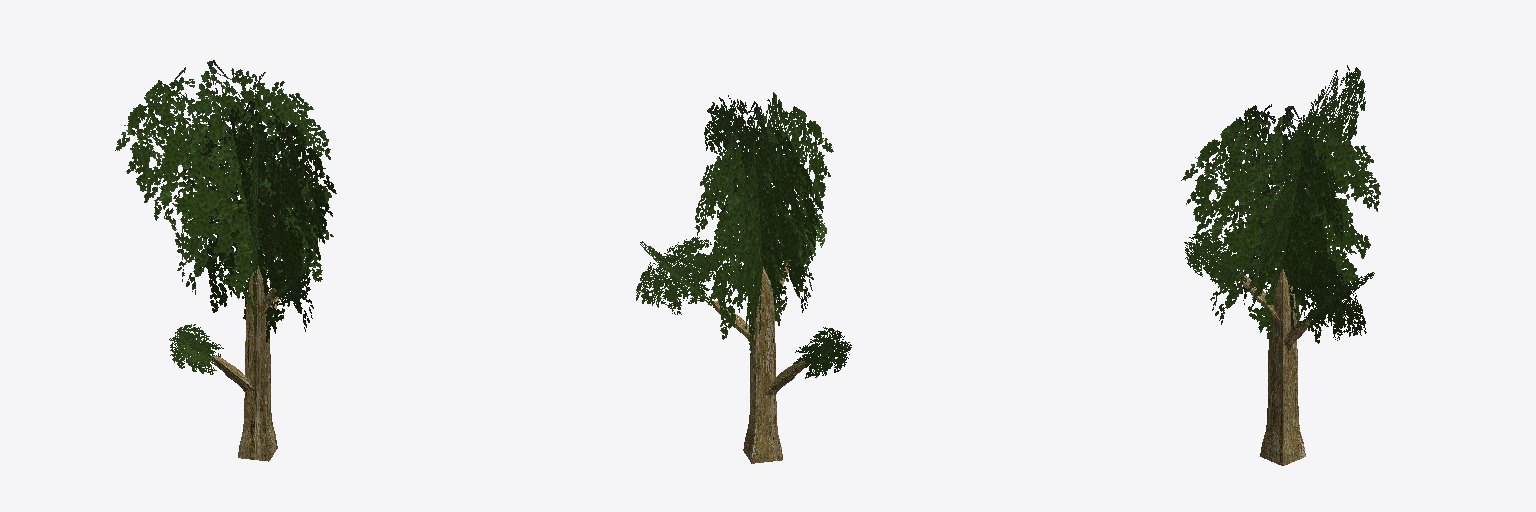
The picture shows the model from 3 angles: view 1: azimuth 30°, elevation 25°; view 2: azimuth 150°, elevation 25°; view 3: azimuth 270°, elevation 25°; orthographic projection.
Visible parts, largest first — view 1: MeshInstance3D14, MeshInstance3D6, MeshInstance3D, MeshInstance3D10, MeshInstance3D7, MeshInstance3D12; view 2: MeshInstance3D7, MeshInstance3D14, MeshInstance3D, MeshInstance3D8, MeshInstance3D6, MeshInstance3D10; view 3: MeshInstance3D6, MeshInstance3D7, MeshInstance3D14, MeshInstance3D, MeshInstance3D8, MeshInstance3D12.
Boxes of the visible parts, <box> form: MeshInstance3D14: <box>115,60,333,309</box>; MeshInstance3D6: <box>182,101,336,342</box>; MeshInstance3D: <box>238,266,277,461</box>; MeshInstance3D10: <box>169,324,223,374</box>; MeshInstance3D7: <box>250,100,264,329</box>; MeshInstance3D12: <box>271,258,302,306</box>; MeshInstance3D7: <box>695,104,833,339</box>; MeshInstance3D14: <box>704,95,822,312</box>; MeshInstance3D: <box>743,267,782,463</box>; MeshInstance3D8: <box>636,237,721,314</box>; MeshInstance3D6: <box>741,92,785,355</box>; MeshInstance3D10: <box>795,327,849,378</box>; MeshInstance3D6: <box>1181,106,1380,344</box>; MeshInstance3D7: <box>1220,104,1343,343</box>; MeshInstance3D14: <box>1251,65,1365,308</box>; MeshInstance3D: <box>1260,269,1305,465</box>; MeshInstance3D8: <box>1301,258,1366,340</box>; MeshInstance3D12: <box>1184,232,1245,284</box>.
Bounding box in the file's own units: 7.47 × 13.08 × 6.49.
Materials: 5 (2 with a texture image).